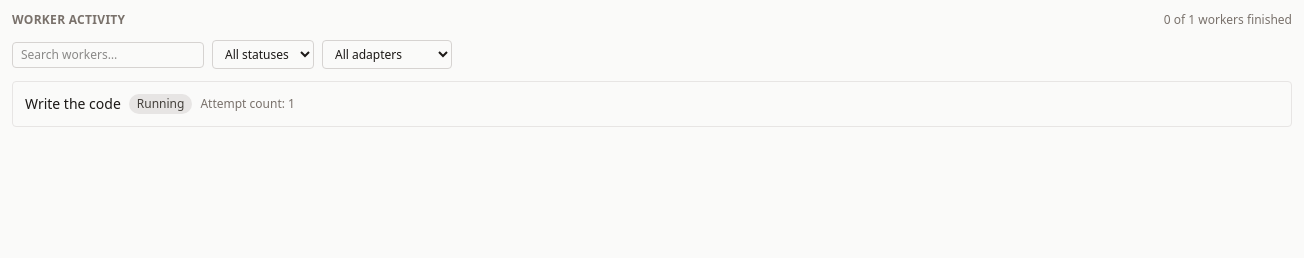
CeoWorkerActivityPanel › shows a safe tool.completed summary with no raw output leaking through when an adapter never provides output
Click the text "Write the code" at point(73, 104), box left=25, top=94, right=121, bottom=114
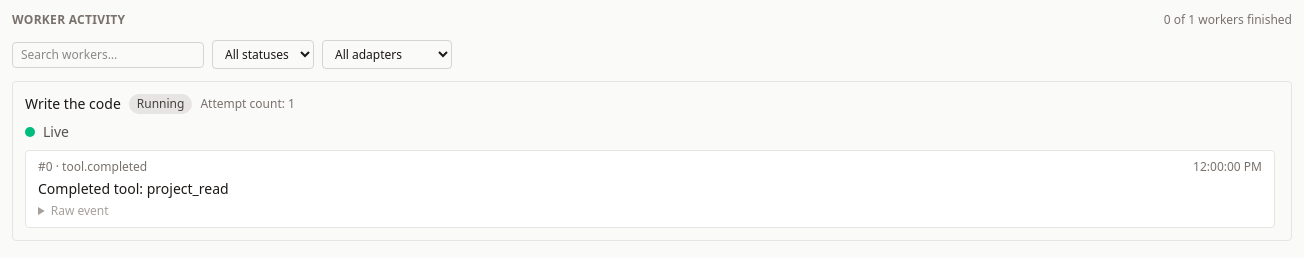
Expected: the text "Completed tool: project_read" is shown, left=38, top=179, right=229, bottom=198
